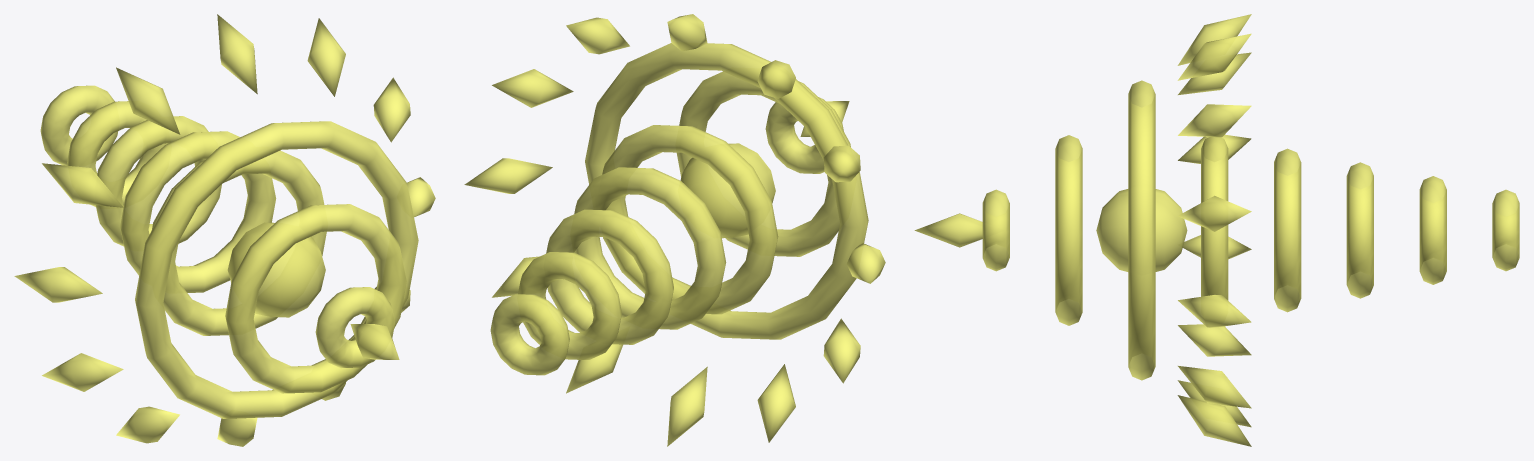
Rendered from BlastBulletCharge2.FBX.
3 views of the same model, side by side, from view 1: azimuth 30°, elevation 25°; view 2: azimuth 150°, elevation 25°; view 3: azimuth 270°, elevation 25° (orthographic). The views are drawn at different scales.
Visible parts, largest first — view 1: Ring001, Thrusters, Ring002, Ring005, Ring004, Ring006, Core, Ring003, Ring008, Ring007, Tip; view 2: Thrusters, Ring001, Ring004, Ring005, Ring006, Ring007, Ring002, Ring008, Core, Ring003; view 3: Thrusters, Ring001, Ring002, Ring005, Core, Ring006, Ring004, Ring007, Ring008, Ring003, Tip.
Part boxes in pixels (box(x1,y1,x2,y2)): Ring001: box(135, 121, 418, 418); Thrusters: box(14, 14, 435, 446); Ring002: box(225, 204, 406, 393); Ring005: box(120, 131, 276, 292); Ring004: box(152, 150, 326, 335); Ring006: box(95, 116, 221, 246); Core: box(227, 222, 325, 317); Ring003: box(315, 287, 394, 368); Ring008: box(40, 85, 118, 165); Ring007: box(67, 101, 168, 206); Tip: box(350, 324, 399, 359); Thrusters: box(464, 14, 885, 446); Ring001: box(585, 43, 868, 339); Ring004: box(602, 125, 778, 314); Ring005: box(574, 167, 726, 329); Ring006: box(546, 209, 673, 344); Ring007: box(518, 252, 621, 359); Ring002: box(676, 71, 850, 256); Ring008: box(490, 294, 569, 375); Core: box(680, 143, 775, 238); Ring003: box(765, 97, 843, 173); Thrusters: box(1177, 14, 1251, 446); Ring001: box(1128, 80, 1155, 380); Ring002: box(1055, 135, 1082, 325); Ring005: box(1274, 148, 1301, 312); Core: box(1096, 189, 1187, 271); Ring006: box(1346, 162, 1373, 298); Ring004: box(1201, 137, 1228, 300); Ring007: box(1419, 176, 1446, 284); Ring008: box(1492, 189, 1519, 271); Ring003: box(982, 189, 1009, 271); Tip: box(914, 213, 982, 247).
Bounding box in the file's own units: 47.74 × 47.74 × 66.5.
